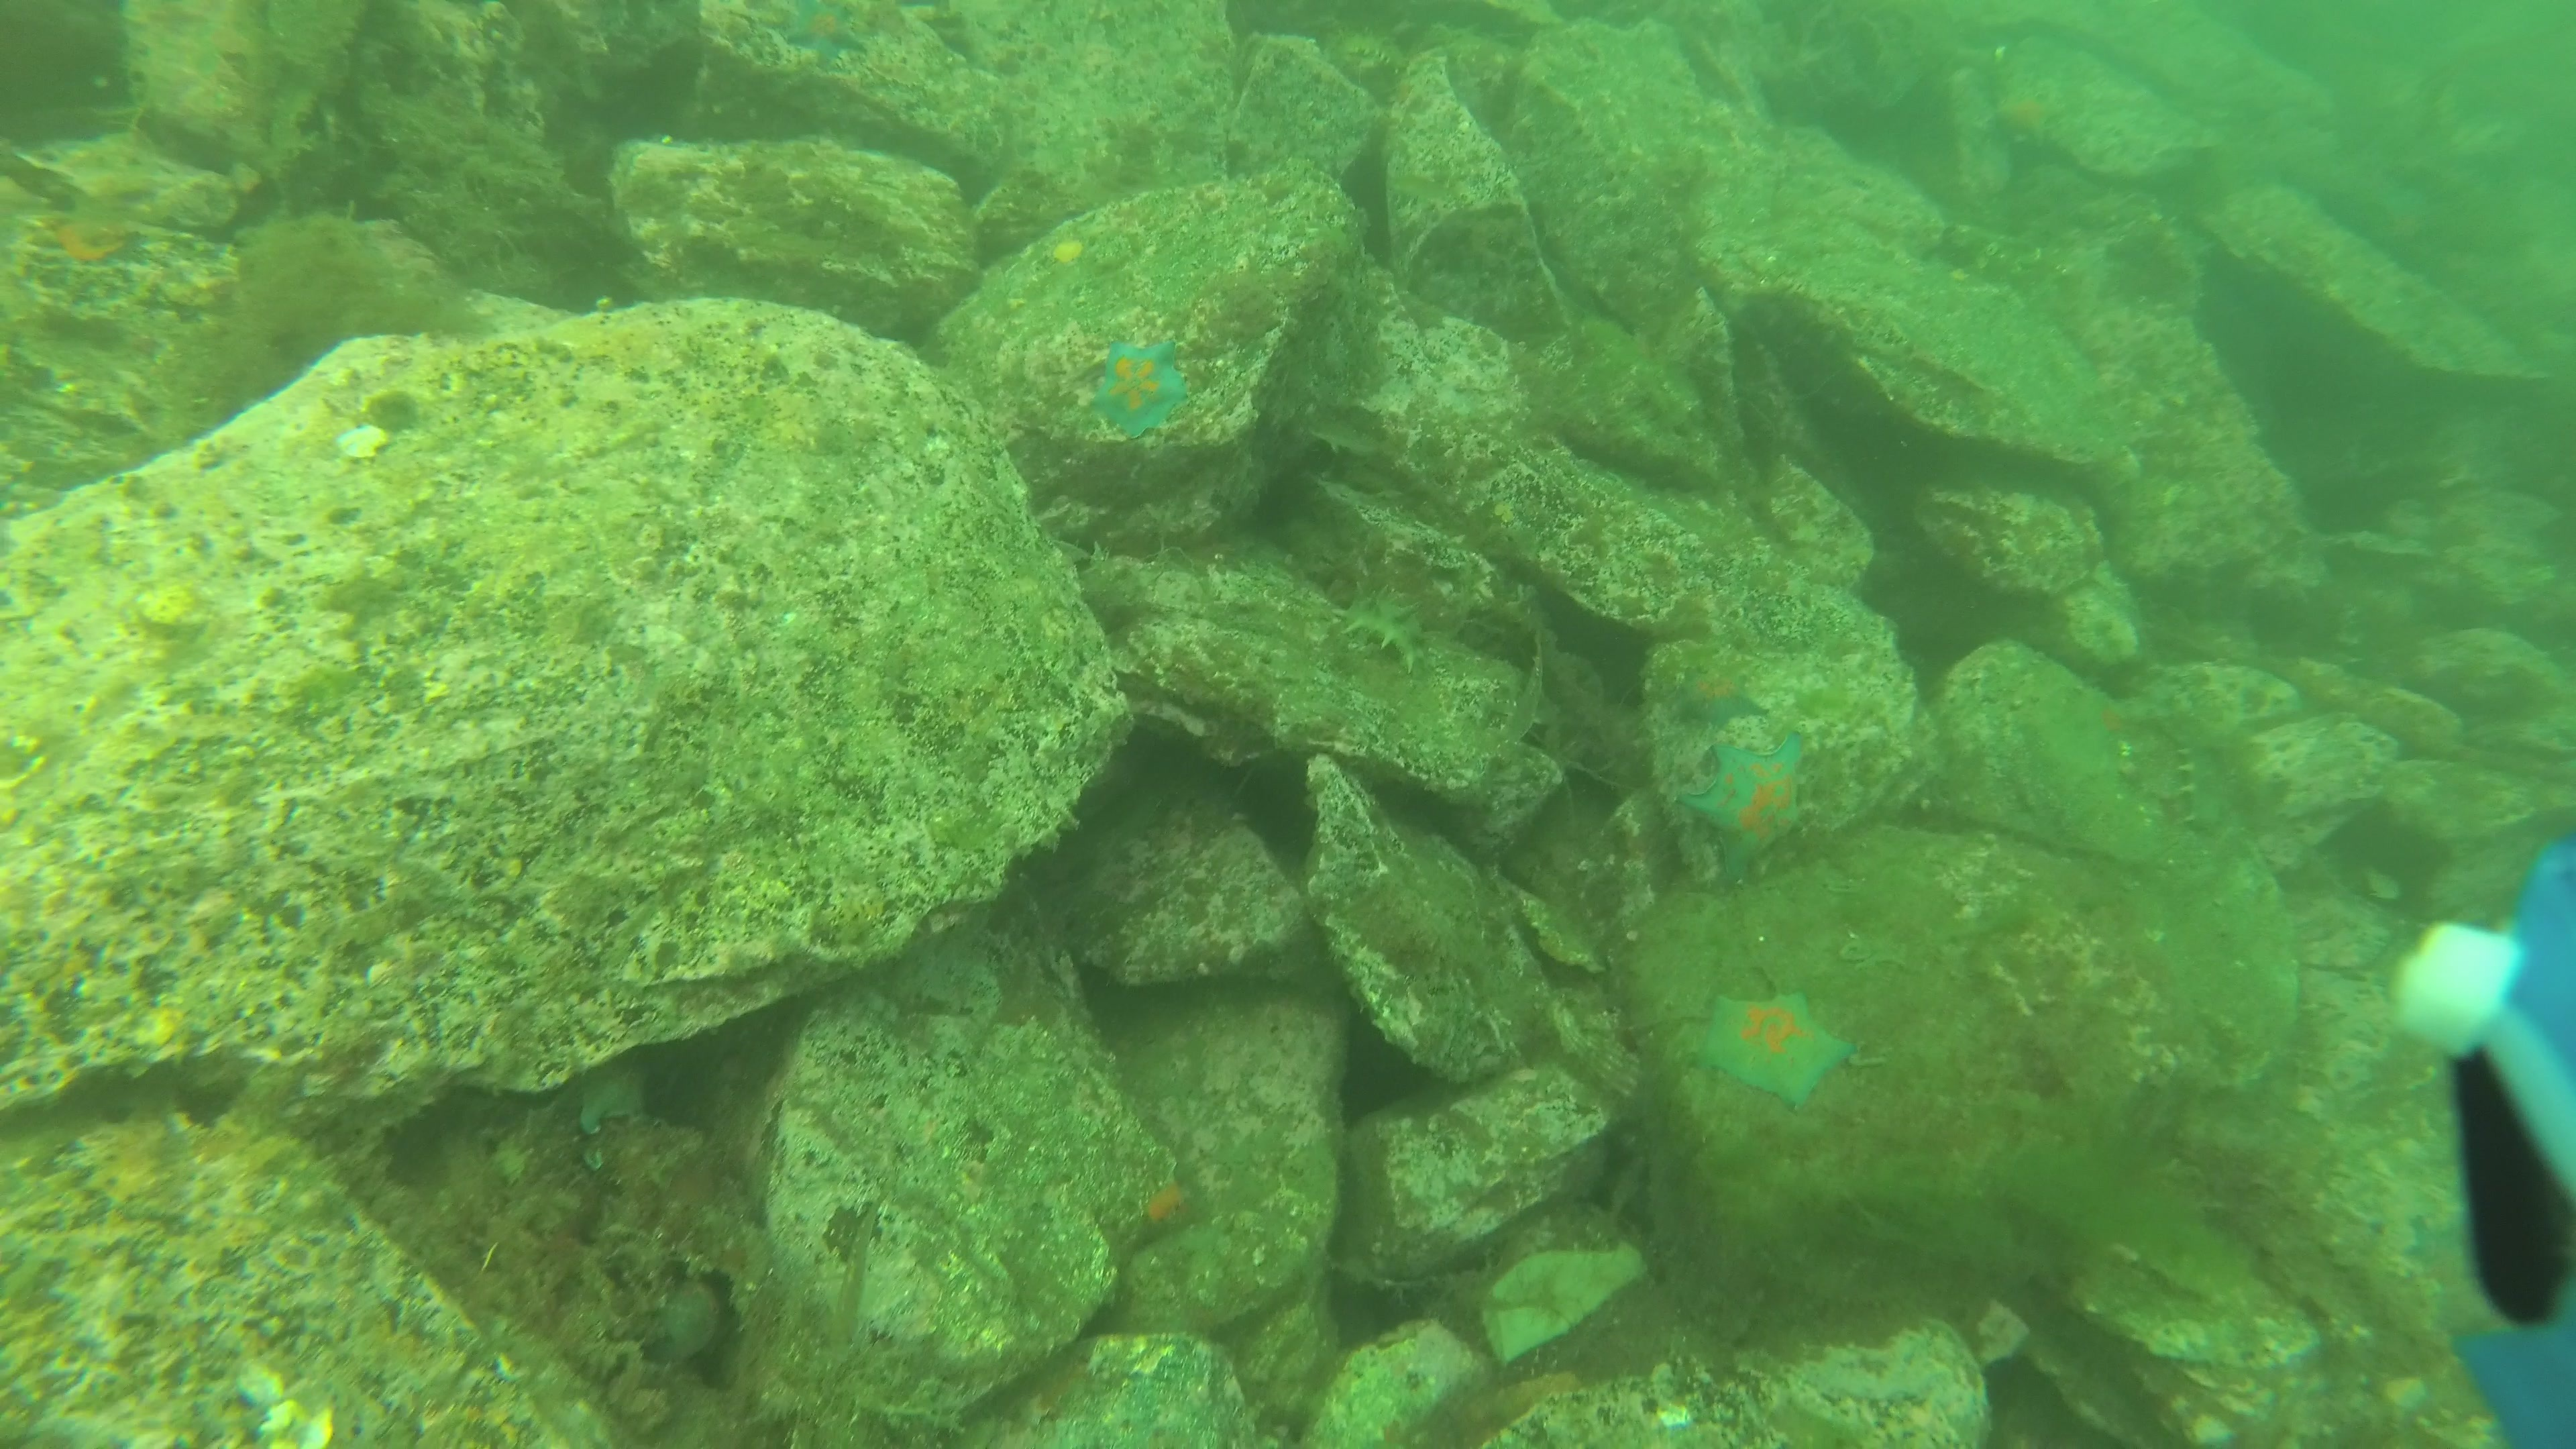holothurian: (1336, 586, 1438, 674)
starfish: (1693, 984, 1856, 1115), (1668, 732, 1813, 879), (1077, 334, 1196, 441)
